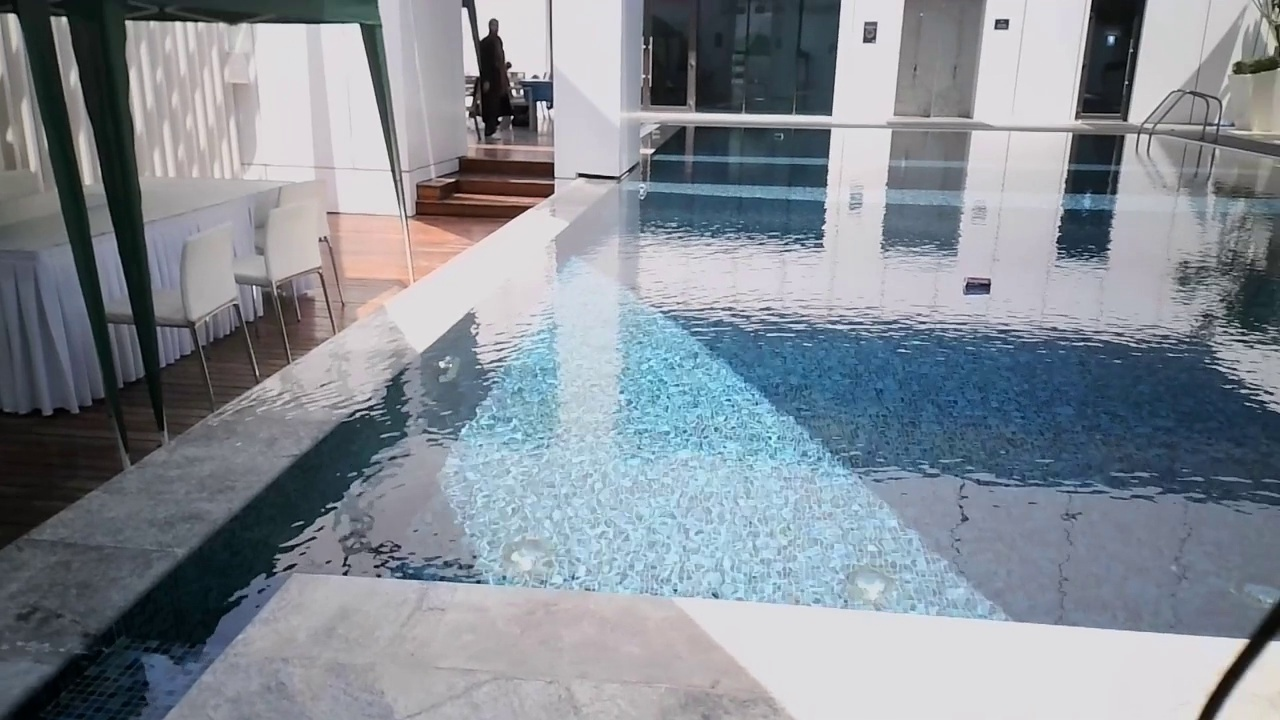debris: (962, 272, 992, 299), (635, 181, 648, 197), (774, 130, 786, 143)
